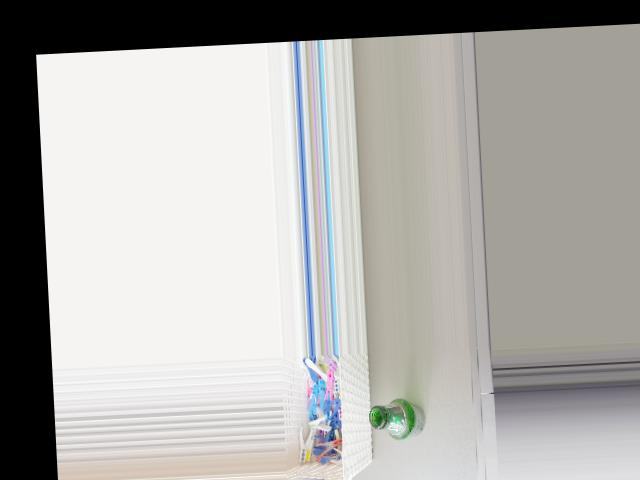beer: (368, 396, 426, 442)
